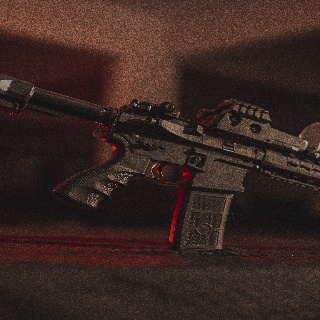rifle: (1, 66, 320, 254)
